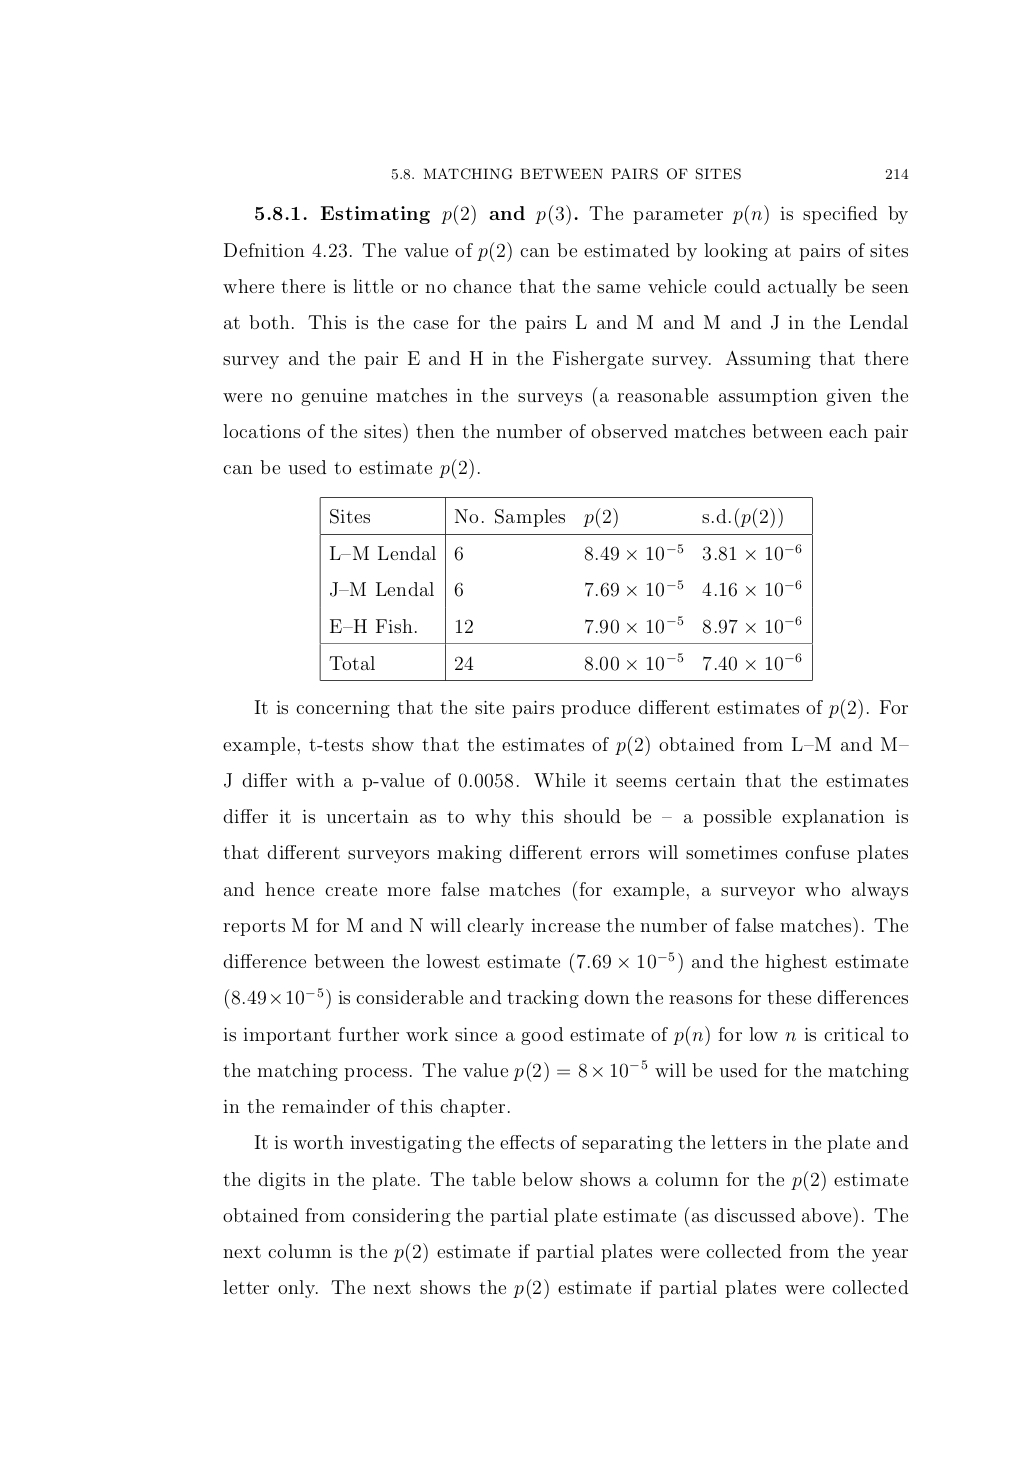Table: (319, 495, 812, 682)
